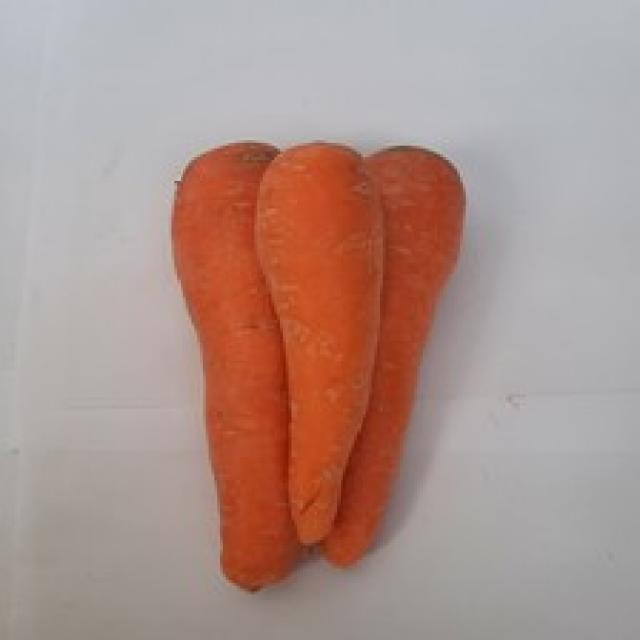carrot: (170, 140, 312, 590), (320, 146, 468, 563), (258, 141, 388, 548)
